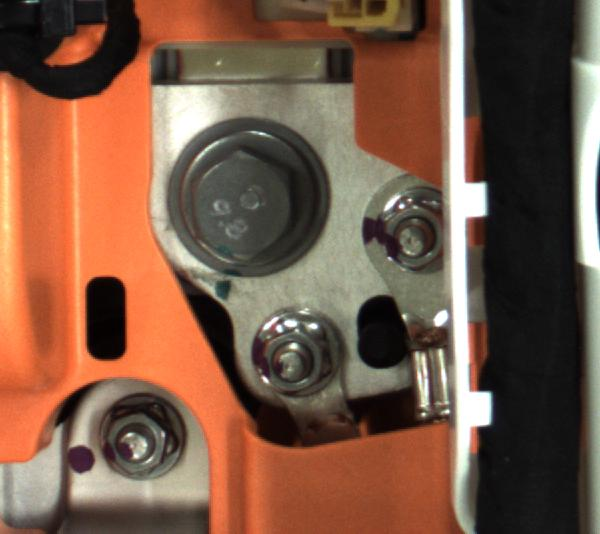nut_b: (165, 120, 314, 274)
screw_s: (88, 398, 197, 482), (375, 187, 477, 276), (244, 307, 341, 398)
